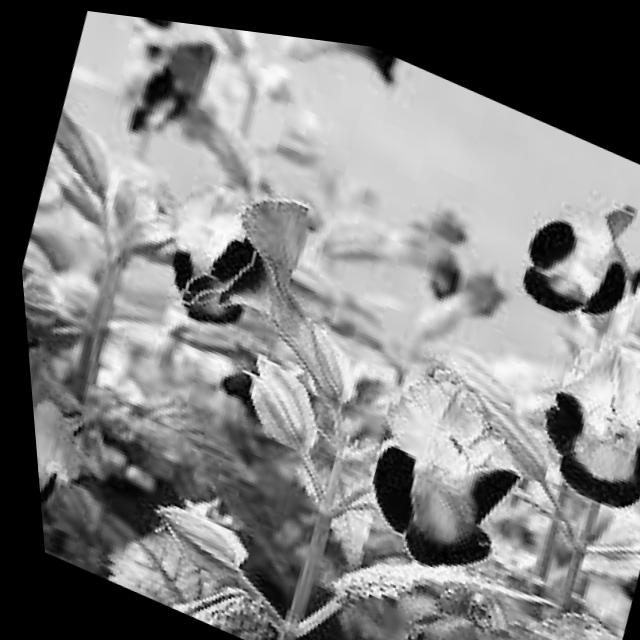Flower: (119, 141, 399, 417), (313, 320, 556, 583), (492, 140, 640, 333), (524, 305, 640, 513), (22, 349, 113, 553), (352, 543, 524, 640)
